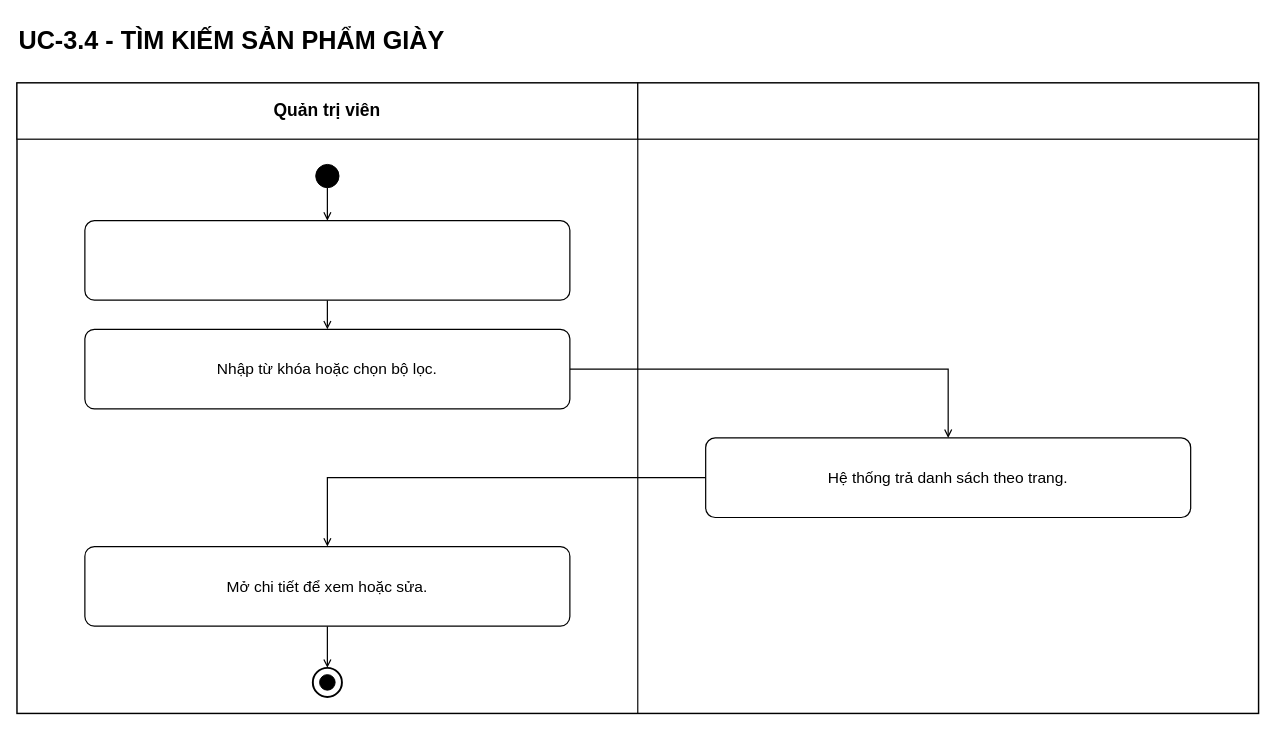
Image size: 1277x731. Some labels were removed from this diagram. Each missing label, with the centre of its shape:
"Hệ thống ShoeGroup" goes at point 948,110.
"Mở Quản lý sản phẩm." goes at point 327,260.
